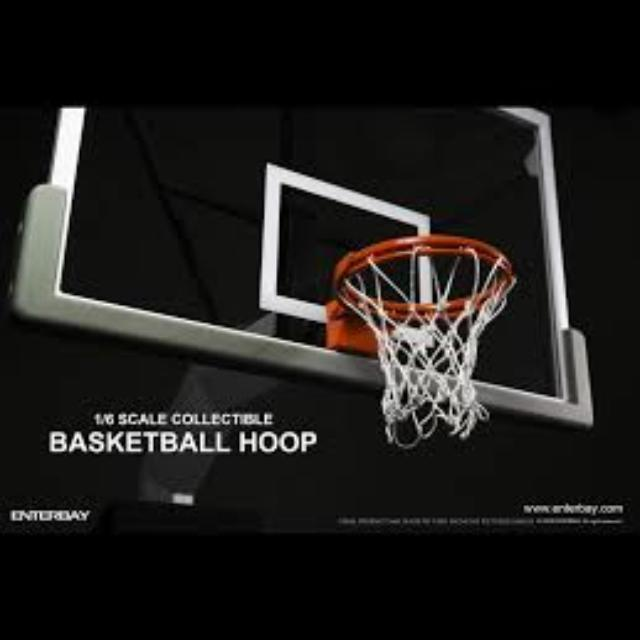rim: (334, 234, 512, 436)
